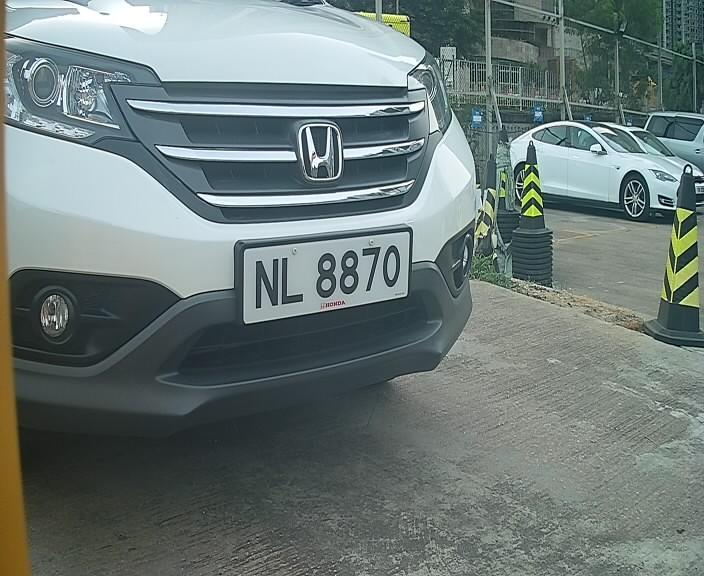License Plate: (230, 217, 415, 322)
